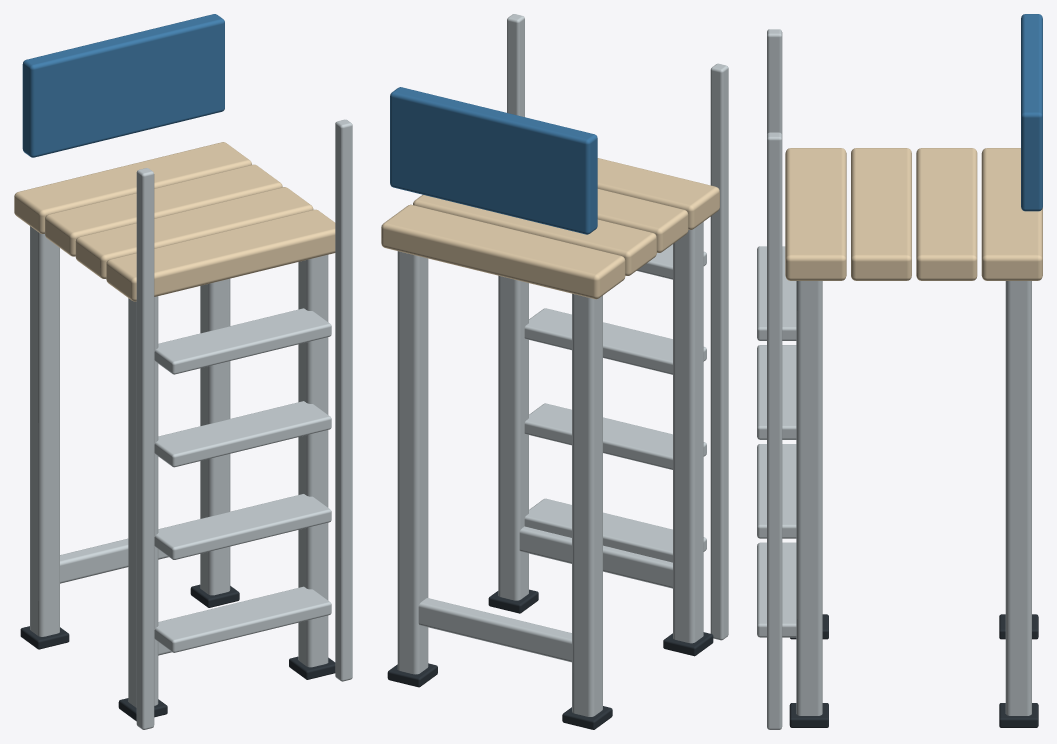
Rendered from squash-club-and-racket-workshop-referee-stand-bb42e339__29744.glb.
3 renders of one model, left to right at view 1: azimuth 30°, elevation 25°; view 2: azimuth 150°, elevation 25°; view 3: azimuth 270°, elevation 25°, orthographic. The views are drawn at different scales.
Visible parts, largest first — view 1: referee-stand; view 2: referee-stand; view 3: referee-stand.
Boxes of the visible parts, x1,y1,x2,y2 form: referee-stand: [14, 14, 352, 729]; referee-stand: [381, 14, 728, 729]; referee-stand: [757, 14, 1042, 729].
Size of the model in its own units: 0.6 by 1.55 by 0.655.
